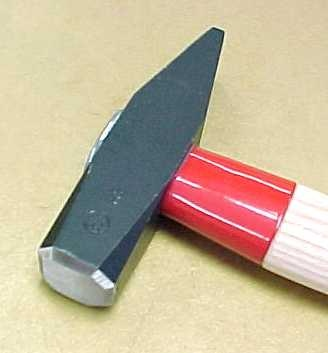hammer: (37, 24, 328, 318)
